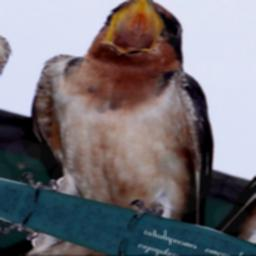Swallow: (0, 0, 256, 246)
